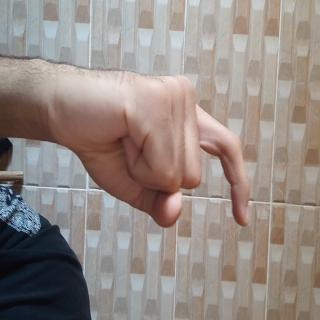RAA: (30, 81, 176, 320)
